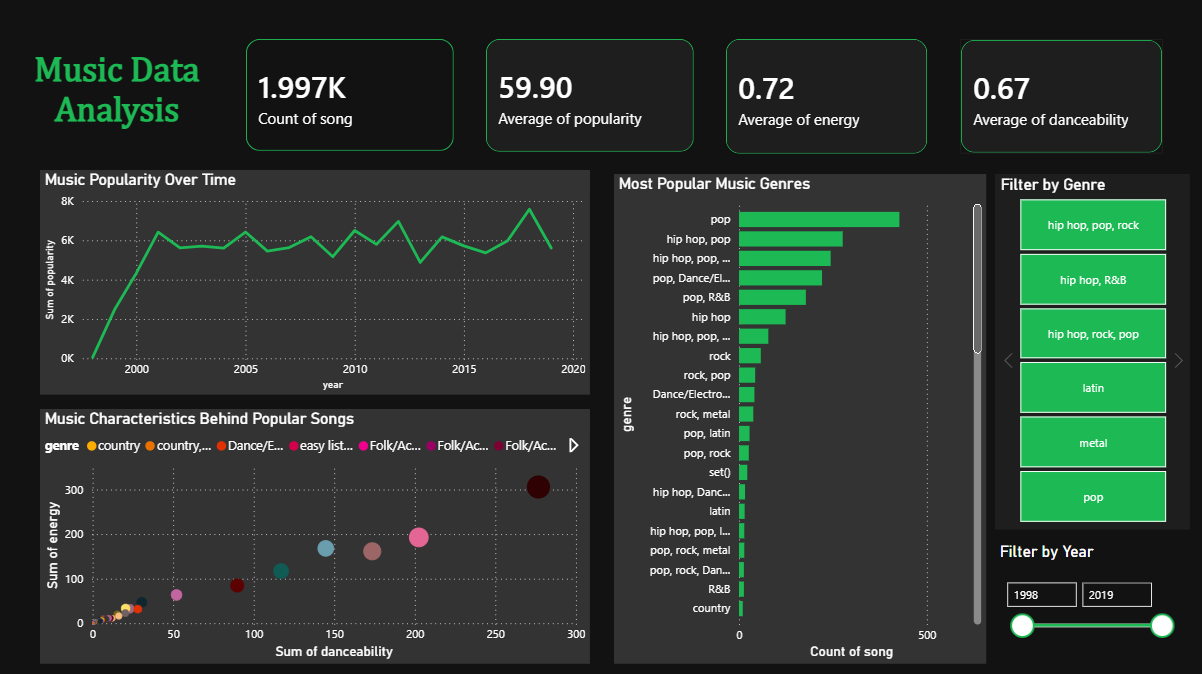

What the dashboard file says about the page in this screenshot:
{"tool":"powerbi","page":{"name":"Page 1","canvas":[1280,720],"ordinal":0},"visuals":[{"type":"cardVisual","fields":{"Data":["CountNonNull(songs.song)"]},"box":[244.7,25.5,255.3,153.2],"z":0},{"type":"cardVisual","fields":{"Data":["Avg(songs.popularity)"]},"box":[500,25.5,255.3,154.3],"z":1000},{"type":"cardVisual","fields":{"Data":["Avg(songs.energy)"]},"box":[755.3,25.5,248.9,156.4],"z":2000},{"type":"cardVisual","fields":{"Data":["Avg(songs.danceability)"]},"box":[1004.3,25.5,250,156.4],"z":3000},{"type":"lineChart","title":"Music Popularity Over Time","fields":{"Category":["songs.year"],"Y":["Sum(songs.popularity)"]},"box":[42.6,181.9,585.1,239.4],"z":4000},{"type":"barChart","title":"Most Popular Music Genres","fields":{"Category":["songs.genre"],"Y":["CountNonNull(songs.song)"]},"box":[653.2,186.2,395.7,521.3],"z":5000},{"type":"scatterChart","title":"Music Characteristics Behind Popular Songs","fields":{"X":["Sum(songs.danceability)"],"Y":["Sum(songs.energy)"],"Size":["Sum(songs.popularity)"],"Series":["songs.genre"]},"box":[42.6,436.2,585.1,271.3],"z":6000},{"type":"slicer","title":"Filter by Genre","fields":{"Values":["songs.genre"]},"box":[1058.5,186.2,207.4,377.7],"z":7000},{"type":"slicer","title":"Filter by Year","fields":{"Values":["songs.year"]},"box":[1058.5,577.7,205.3,129.8],"z":8000},{"type":"textbox","box":[14.9,50,219.1,103.2],"z":8001}]}

Visuals, with their boxes in screenshot pixels (x1, y1, x2, y2), scaled from the page's 1280x720 canvas onto the 1202x674 screenshot:
cardVisual - CountNonNull(songs.song): region(230, 24, 470, 167)
cardVisual - Avg(songs.popularity): region(470, 24, 709, 168)
cardVisual - Avg(songs.energy): region(709, 24, 943, 170)
cardVisual - Avg(songs.danceability): region(943, 24, 1178, 170)
"Music Popularity Over Time" lineChart: region(40, 170, 589, 394)
"Most Popular Music Genres" barChart: region(613, 174, 985, 662)
"Music Characteristics Behind Popular Songs" scatterChart: region(40, 408, 589, 662)
"Filter by Genre" slicer: region(994, 174, 1189, 528)
"Filter by Year" slicer: region(994, 541, 1187, 662)
textbox: region(14, 47, 220, 143)
